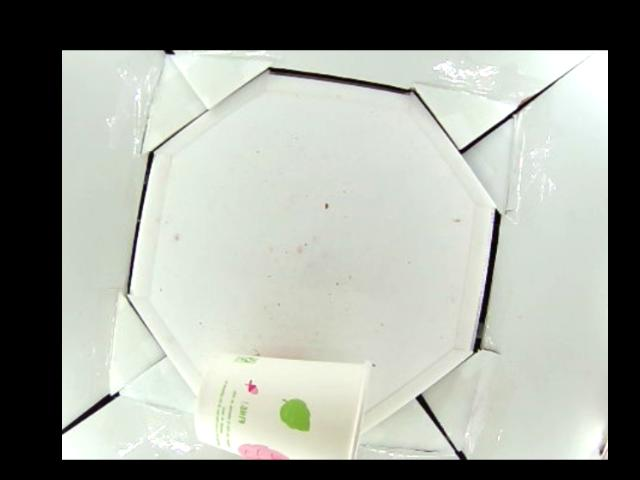Cup: (195, 353, 375, 459)
